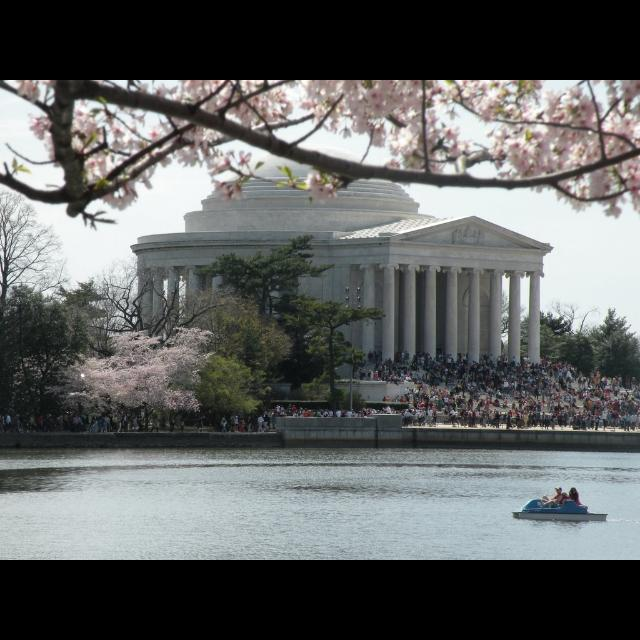Flower: (322, 184, 336, 198)
